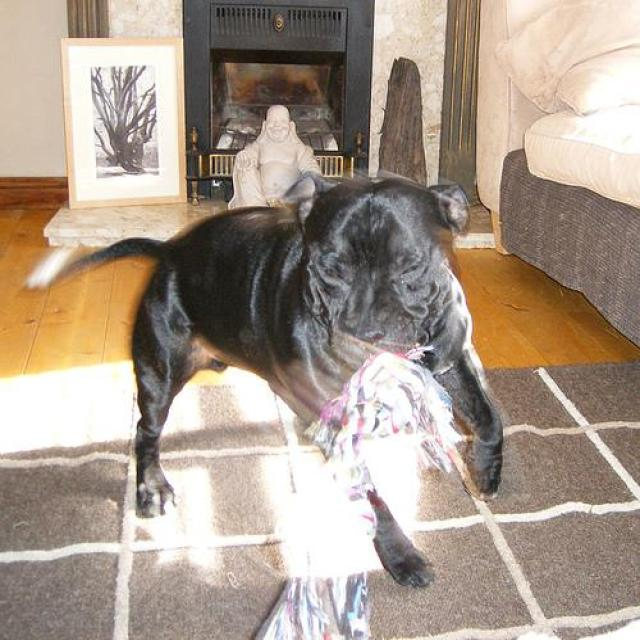staffordshire_bullterrier: (48, 171, 504, 586)
